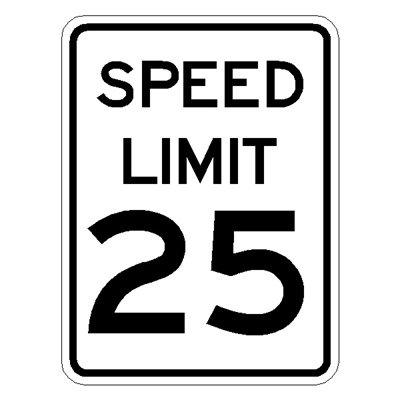speed limit: (43, 1, 343, 377)
